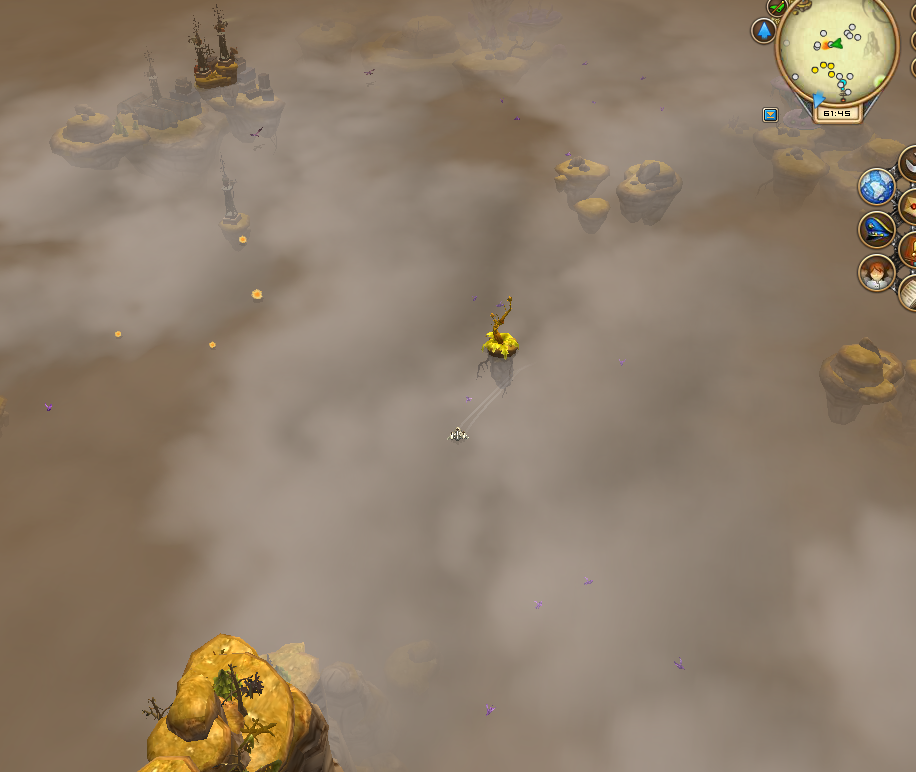dandelion-empty: (477, 295, 523, 391)
fluff: (248, 286, 266, 305), (236, 230, 251, 247), (110, 326, 126, 341), (206, 338, 217, 351)
